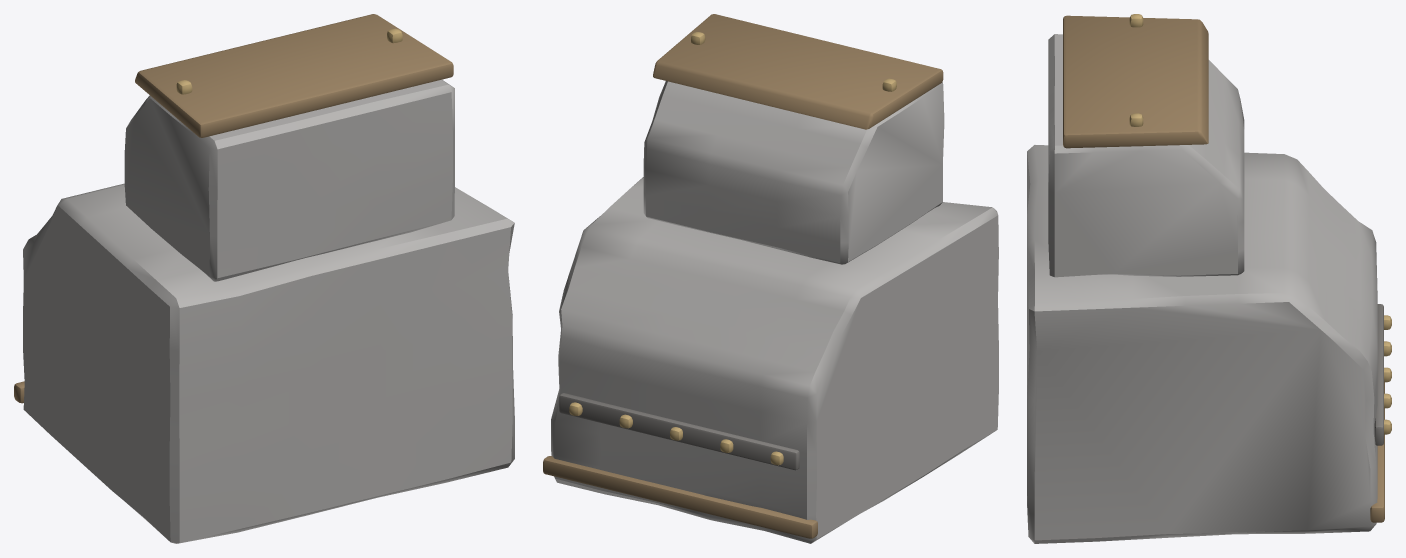
Rendered from SM_Area2_RimTooth_Big_A.glb.
3 views of the same model, side by side, from view 1: azimuth 30°, elevation 25°; view 2: azimuth 150°, elevation 25°; view 3: azimuth 270°, elevation 25° (orthographic). The views are drawn at different scales.
Parts seen in each view (by area): view 1: SM_Area2_RimTooth_Big_A; view 2: SM_Area2_RimTooth_Big_A; view 3: SM_Area2_RimTooth_Big_A.
Part boxes in pixels (x1,y1,x2,y2): SM_Area2_RimTooth_Big_A: [14, 14, 514, 543]; SM_Area2_RimTooth_Big_A: [543, 14, 998, 543]; SM_Area2_RimTooth_Big_A: [1027, 14, 1391, 543].
Bounding box in the file's own units: 2.09 × 2.4 × 1.98.
